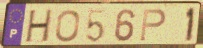1: (183, 6, 196, 44)
5: (85, 8, 107, 44)
6: (112, 8, 137, 43)
H: (24, 8, 55, 44)
O: (54, 9, 81, 44)
P: (138, 8, 167, 43)
